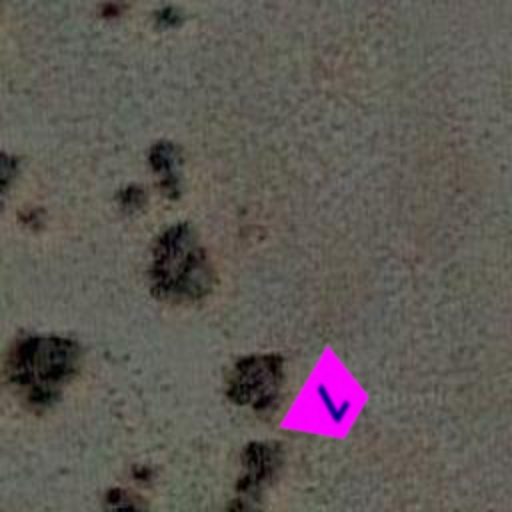trapezoid: (264, 336, 396, 468)
